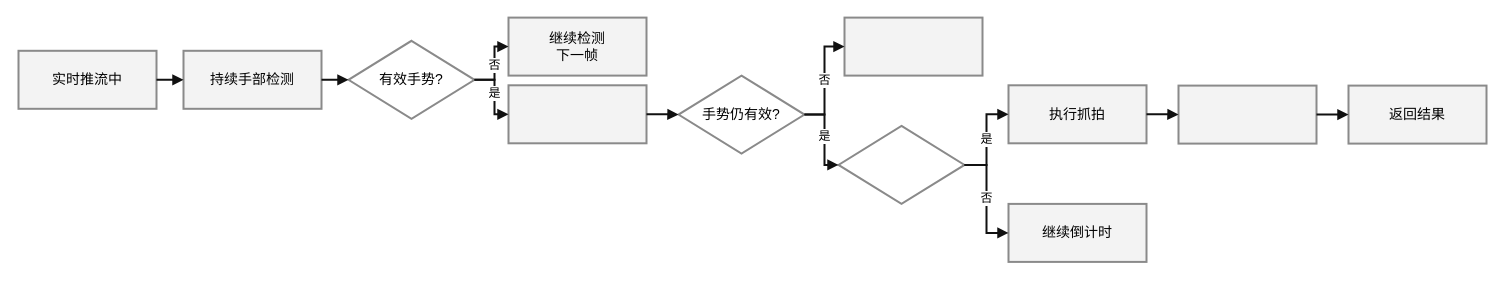
This 1504x281 diagram has some shape labels left out. Each missing label, with the centre of its shape:
"保存 captures" belongs at [1247,114].
"倒计时结束?" belongs at [901,164].
"取消倒计时 继续检测" belongs at [913,46].
"启动 3 秒 倒计时" belongs at [577,114].
